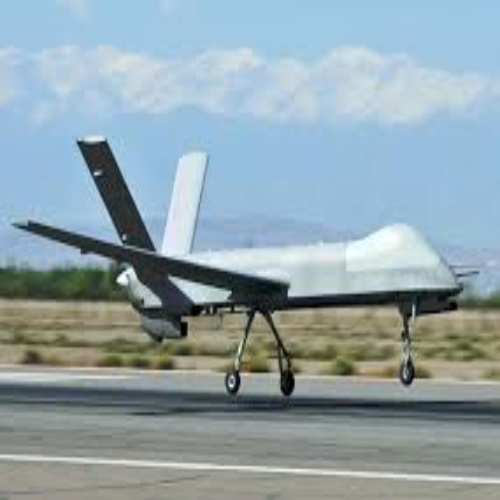uav: (10, 137, 479, 397)
